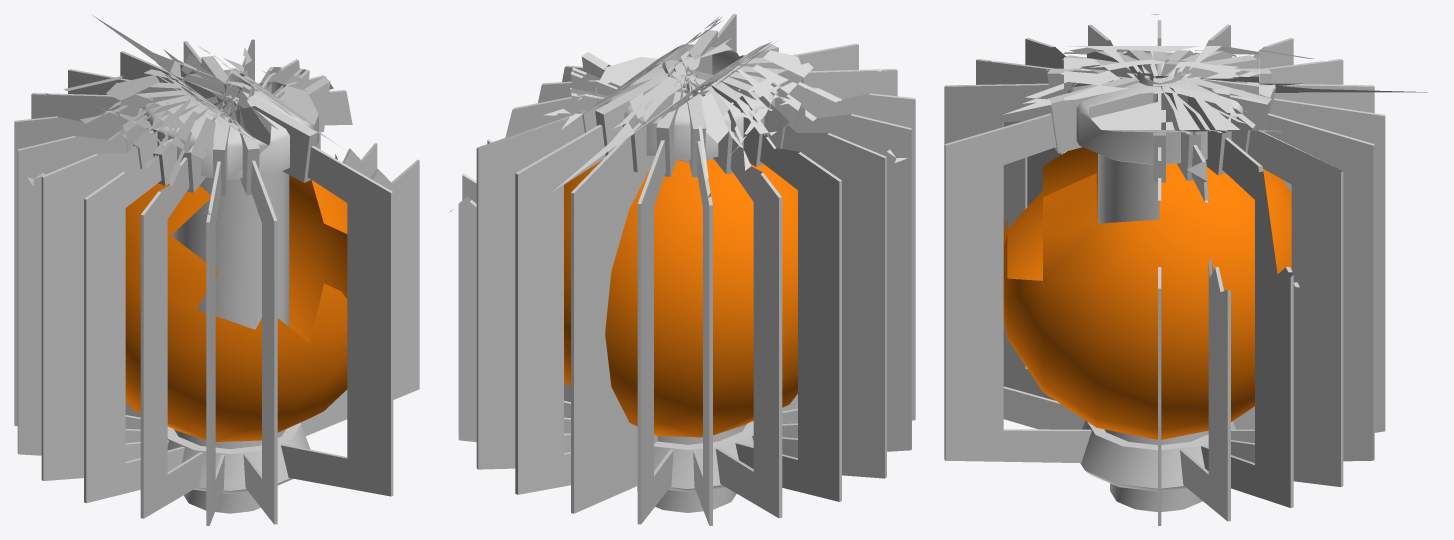
File: prison model busted open.dae
The picture shows the model from 3 angles, left to right: view 1: azimuth 30°, elevation 25°; view 2: azimuth 150°, elevation 25°; view 3: azimuth 270°, elevation 25°; orthographic projection. The views are drawn at different scales.
Visible parts, largest first — view 1: Polygon_Mesh (×2); view 2: Polygon_Mesh (×2); view 3: Polygon_Mesh (×2).
Boxes of the visible parts, x1=… form: Polygon_Mesh (×2): x1=14, y1=15, x2=419, y2=525; Polygon_Mesh (×2): x1=449, y1=14, x2=915, y2=525; Polygon_Mesh (×2): x1=944, y1=14, x2=1427, y2=525.
Size of the model in its own units: 308 by 312 by 325.
